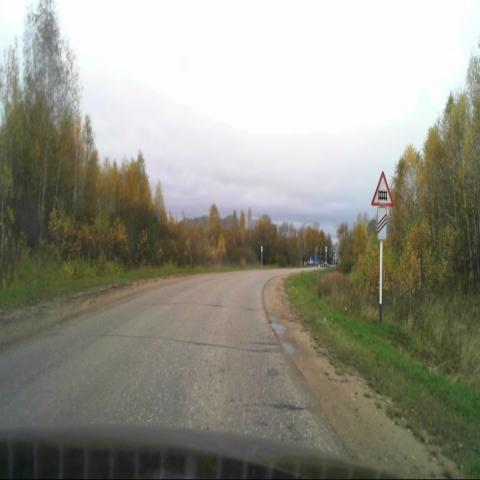1_1: (371, 170, 395, 207)
